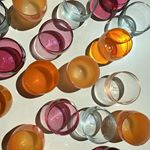cups: (14, 56, 59, 103), (85, 26, 135, 65), (29, 17, 74, 60), (55, 54, 101, 96), (94, 69, 144, 107), (35, 97, 79, 135)
